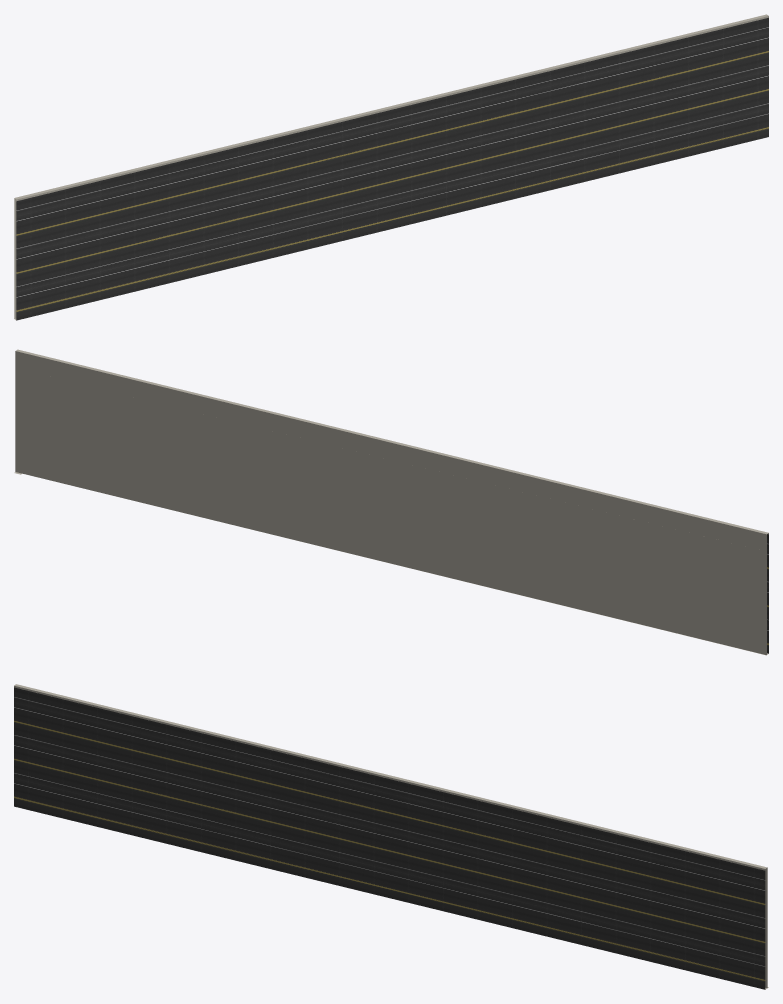
The model's file is deck_07.obj.
The picture shows the model from 3 angles, top to bottom: view 1: azimuth 30°, elevation 25°; view 2: azimuth 150°, elevation 25°; view 3: azimuth 330°, elevation 25°; orthographic projection.
Parts seen in each view (by area): view 1: _12, _8; view 2: _8; view 3: _12, _8.
Part boxes in pixels (x1,y1,x2,y2): _12: [16, 17, 768, 320]; _8: [14, 14, 768, 319]; _8: [14, 349, 768, 655]; _12: [14, 687, 765, 989]; _8: [14, 684, 768, 989].
Bounding box in the file's own units: 35.65 × 5.48 × 0.2984.
